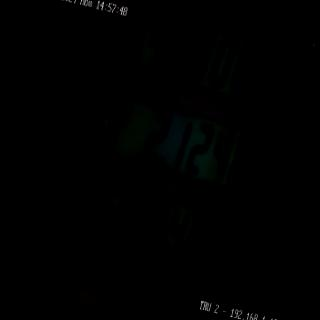screen: (62, 0, 274, 298)
